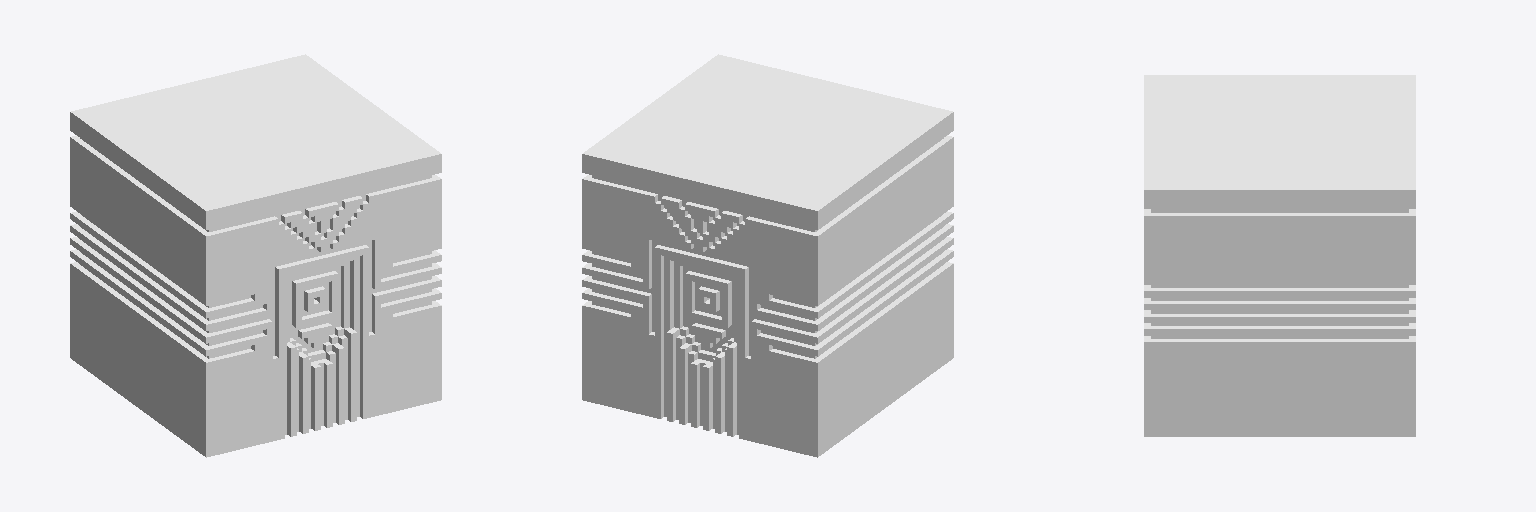
File: GloryCubeNaturalTest.obj
The picture shows the model from 3 angles: view 1: azimuth 30°, elevation 25°; view 2: azimuth 150°, elevation 25°; view 3: azimuth 270°, elevation 25°; orthographic projection.
Parts seen in each view (by area): view 1: object 1; view 2: object 1; view 3: object 1.
Boxes of the visible parts, <box> form: object 1: <box>70,54,441,457</box>; object 1: <box>582,54,953,457</box>; object 1: <box>1144,75,1415,436</box>.
Size of the model in its own units: 3.9 by 3.9 by 3.9.